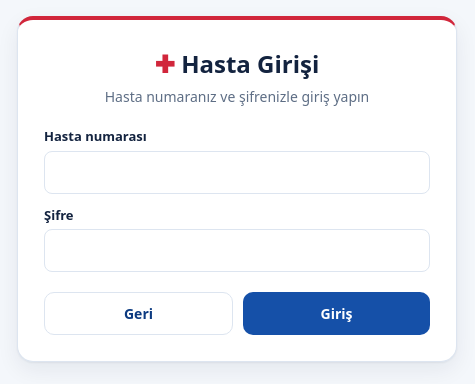
patient login › accepts patient numbers with a dot and keeps only digits and dots
This screenshot has width=475, height=384.
Type "no 93779.52927" into the field labelled "Hasta numarası" at (237, 172), box [44, 150, 430, 194]
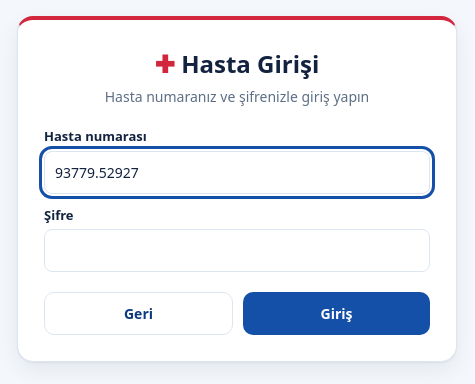
Expected: the field labelled "Hasta numarası" holds "93779.52927", [44, 150, 430, 194]
